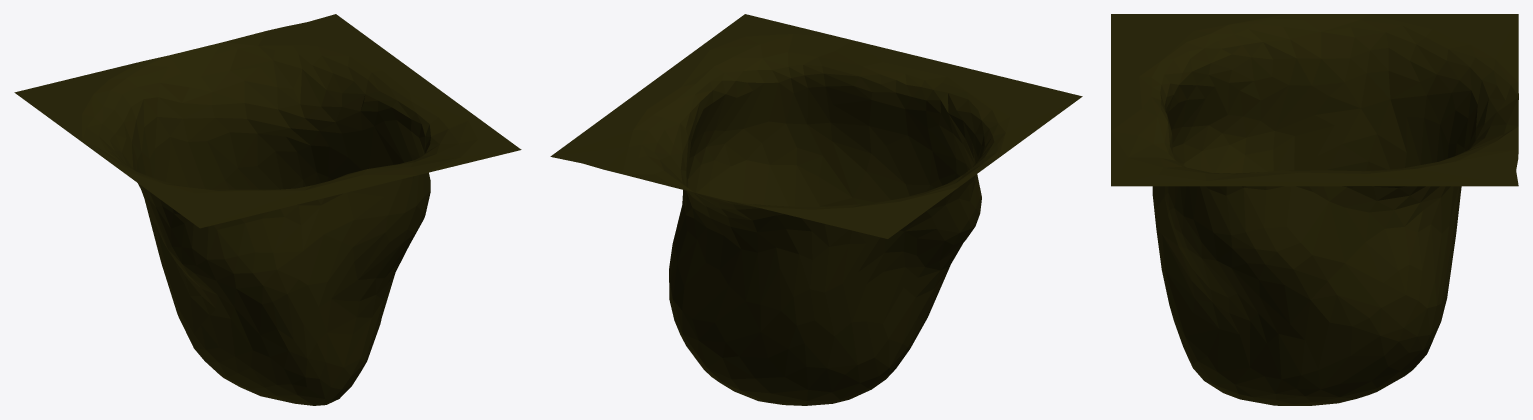
File: scuba_map.obj
The picture shows the model from 3 angles, left to right: view 1: azimuth 30°, elevation 25°; view 2: azimuth 150°, elevation 25°; view 3: azimuth 270°, elevation 25°; orthographic projection. The views are drawn at different scales.
Visible parts, largest first — view 1: Grid; view 2: Grid; view 3: Grid.
Boxes of the visible parts, x1=… form: Grid: x1=14, y1=14, x2=521, y2=405; Grid: x1=550, y1=14, x2=1082, y2=405; Grid: x1=1111, y1=14, x2=1518, y2=405.
Size of the model in its own units: 100 by 77.82 by 100.
